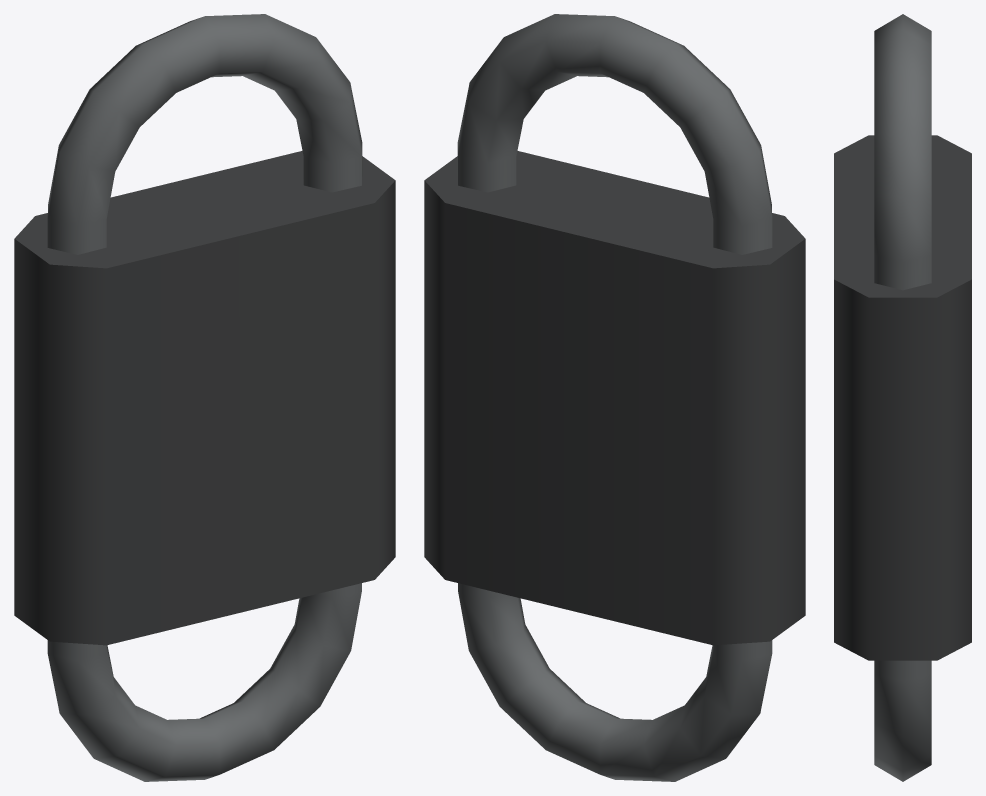
File: Chain_10.fbx
The picture shows the model from 3 angles, left to right: view 1: azimuth 30°, elevation 25°; view 2: azimuth 150°, elevation 25°; view 3: azimuth 270°, elevation 25°; orthographic projection. The views are drawn at different scales.
Parts seen in each view (by area): view 1: Chain_10; view 2: Chain_10; view 3: Chain_10.
Boxes of the visible parts, x1,y1,x2,y2 form: Chain_10: (14, 14, 395, 781); Chain_10: (424, 14, 805, 781); Chain_10: (834, 14, 971, 781).
Bounding box in the file's own units: 1.24 × 2.61 × 0.4438.
